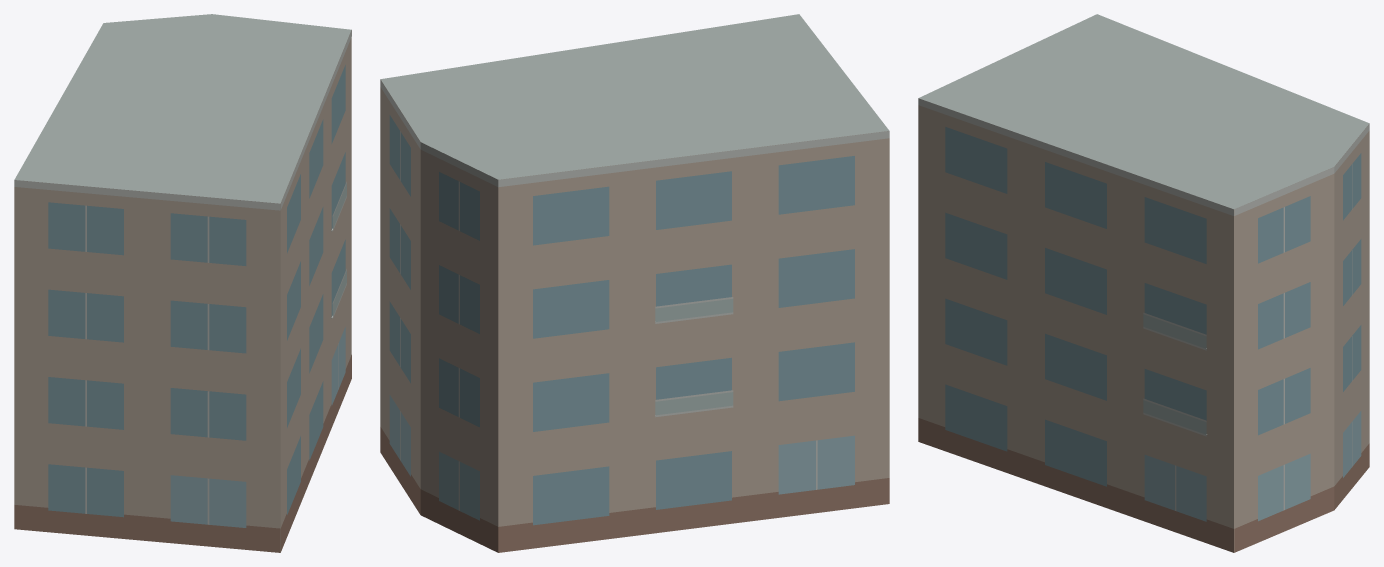
Rendered from survey-upis-32933985.glb.
3 renders of one model, left to right at view 1: azimuth 30°, elevation 25°; view 2: azimuth 150°, elevation 25°; view 3: azimuth 270°, elevation 25°, orthographic. The views are drawn at different scales.
Parts seen in each view (by area): view 1: survey-upis-32933985.tmp; view 2: survey-upis-32933985.tmp; view 3: survey-upis-32933985.tmp.
Boxes of the visible parts, left/top/right/bottom form: survey-upis-32933985.tmp: left=14, top=14, right=351, bottom=552; survey-upis-32933985.tmp: left=380, top=14, right=889, bottom=552; survey-upis-32933985.tmp: left=918, top=14, right=1369, bottom=552.
Bounding box in the file's own units: 14.89 × 12.2 × 14.53.
